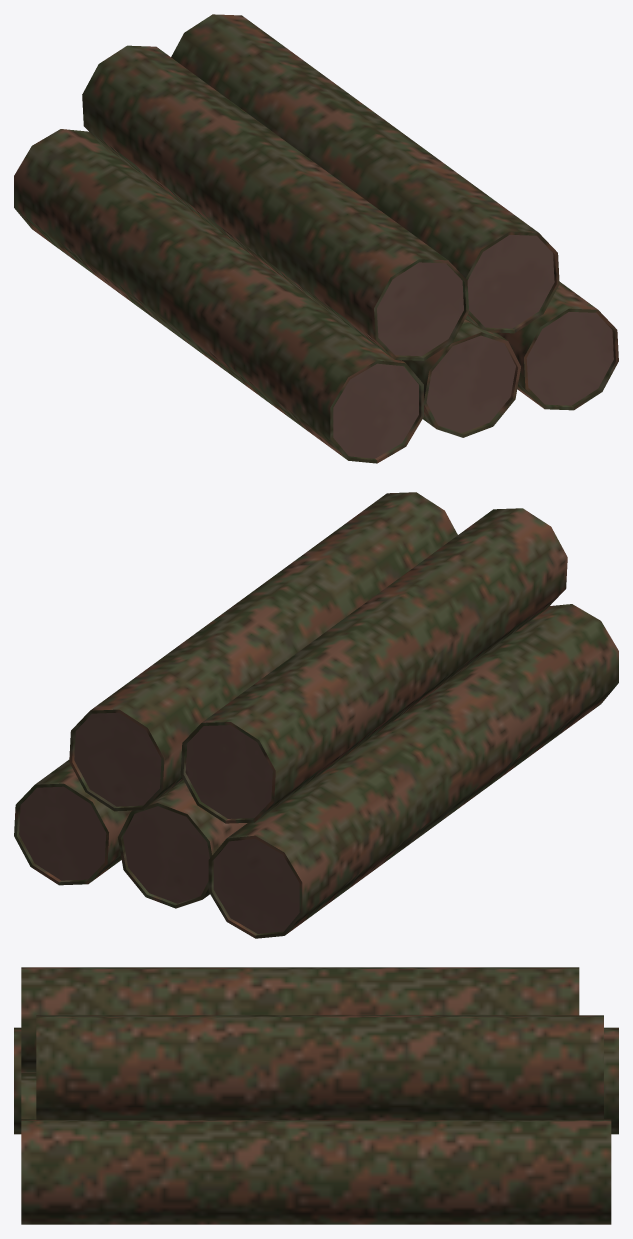
File: StackOfLogs2.fbx
3 views of the same model, one above another, from view 1: azimuth 30°, elevation 25°; view 2: azimuth 150°, elevation 25°; view 3: azimuth 270°, elevation 25° (orthographic). The views are drawn at different scales.
Visible parts, largest first — view 1: StackOfLogs2; view 2: StackOfLogs2; view 3: StackOfLogs2.
Boxes of the visible parts, box(x1,y1,x2,y2) form: StackOfLogs2: box(14, 14, 618, 463); StackOfLogs2: box(14, 492, 618, 938); StackOfLogs2: box(14, 967, 618, 1224).
Bounding box in the file's own units: 156 × 96.9 × 292.
